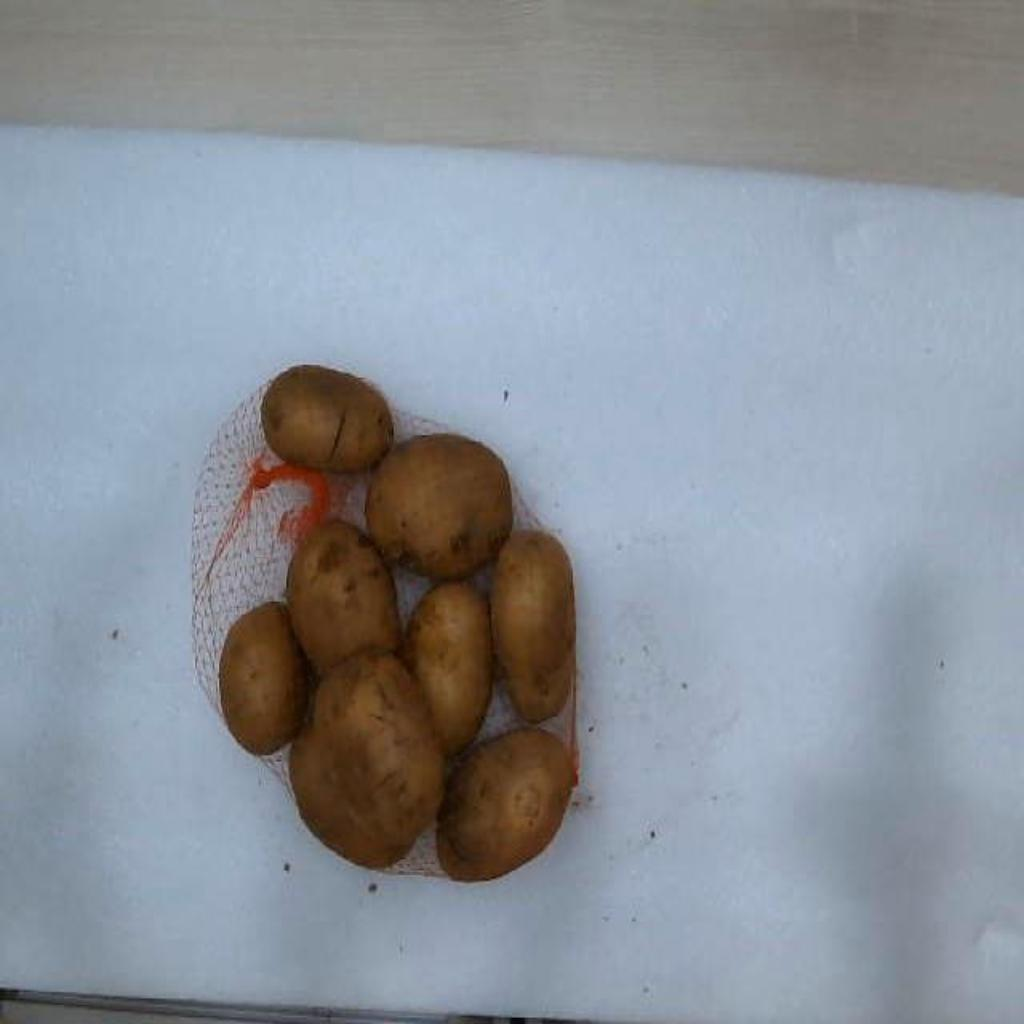potato: (290, 653, 444, 867), (366, 435, 512, 579), (436, 728, 572, 880), (286, 520, 400, 675), (492, 531, 572, 721), (406, 581, 492, 753), (264, 365, 394, 472), (220, 603, 308, 755)
